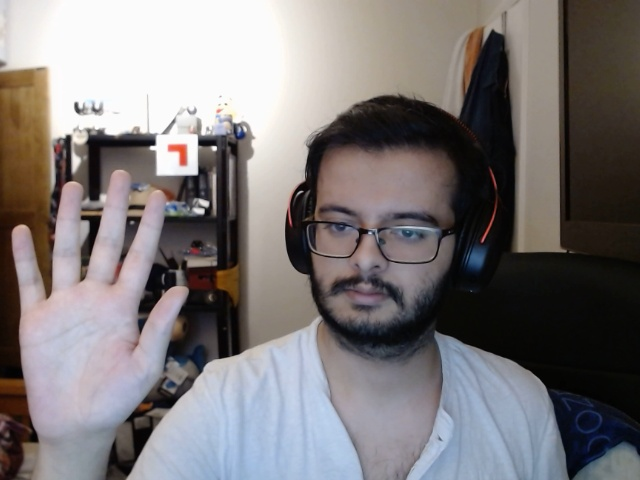Hello: (1, 167, 195, 445)
